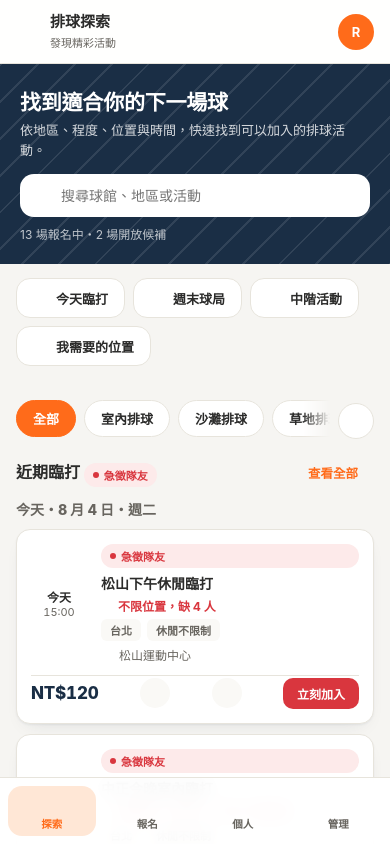
Scenario: Explore — 我需要的位置 quick entry › a generic 更多篩選 open still starts from 基本條件 only, never auto-expanding 排球條件
Click the button named "更多篩選" at [356, 420], box [338, 402, 374, 438]
(page scrolled)
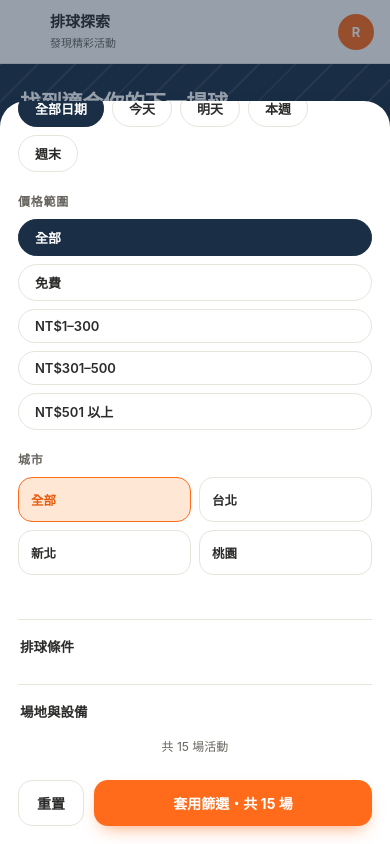
Check: the dialog is shown
